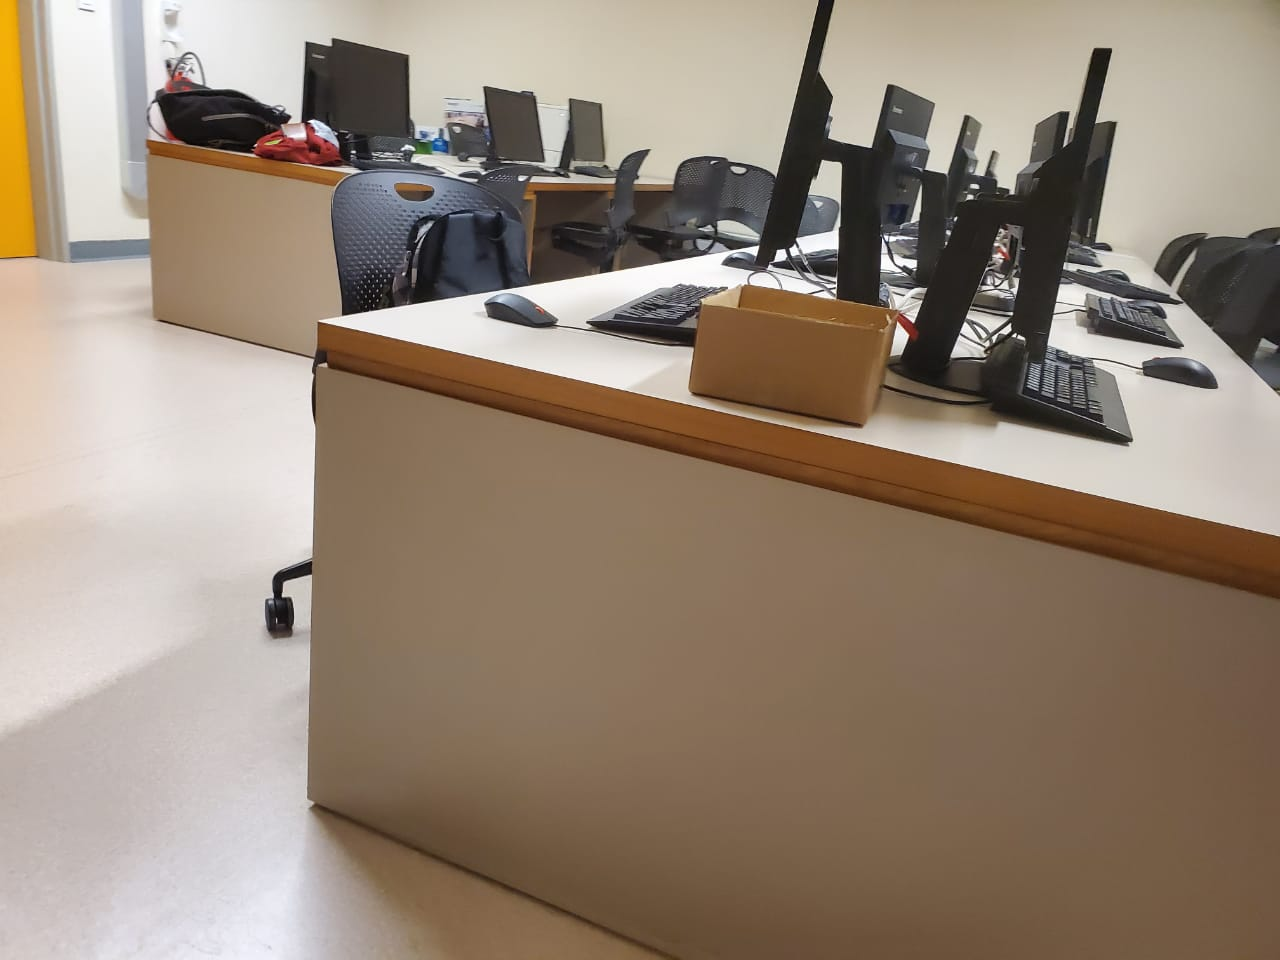CBox: (692, 281, 904, 437)
